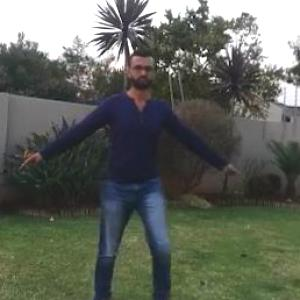land: (50, 70, 201, 256)
